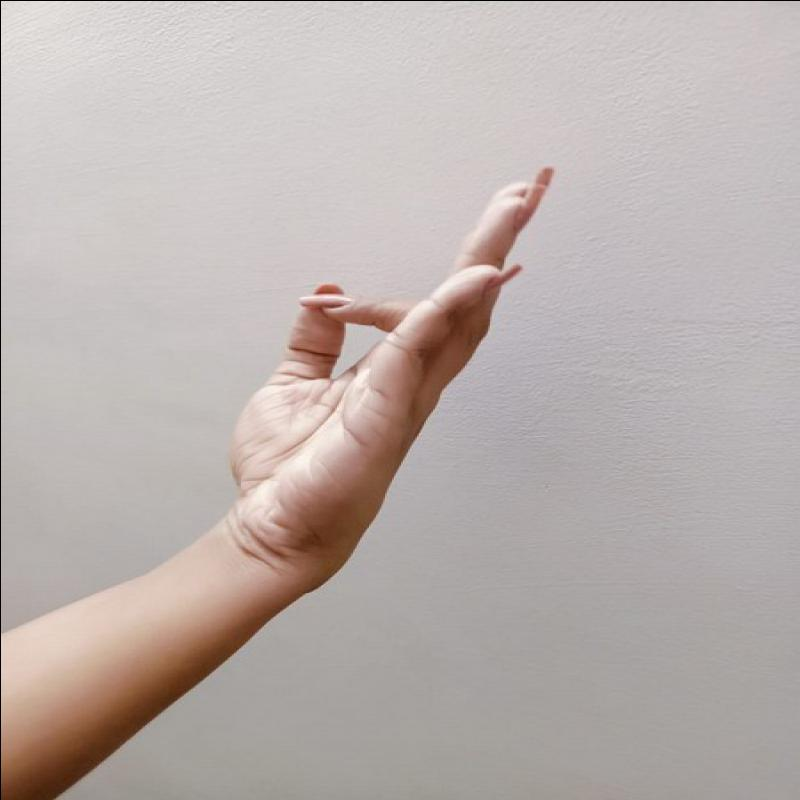Mudraakhyam: (207, 147, 569, 590)
